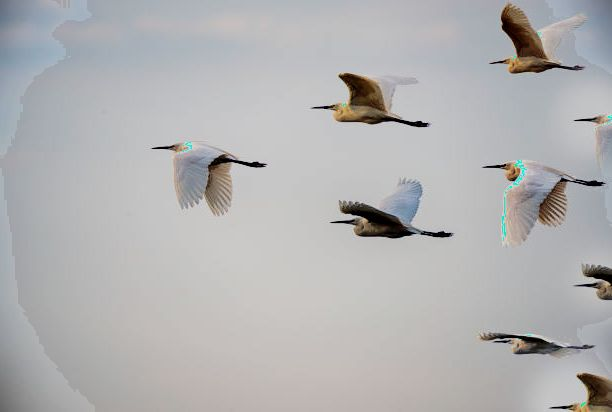Bird: (480, 158, 607, 246), (143, 136, 270, 220), (326, 174, 454, 244), (485, 2, 594, 80), (306, 69, 435, 134), (479, 327, 596, 358), (545, 367, 612, 410), (572, 111, 612, 165), (571, 260, 612, 301)
